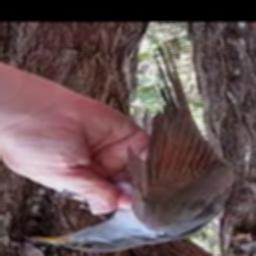Cuckoo: (26, 43, 234, 252)
